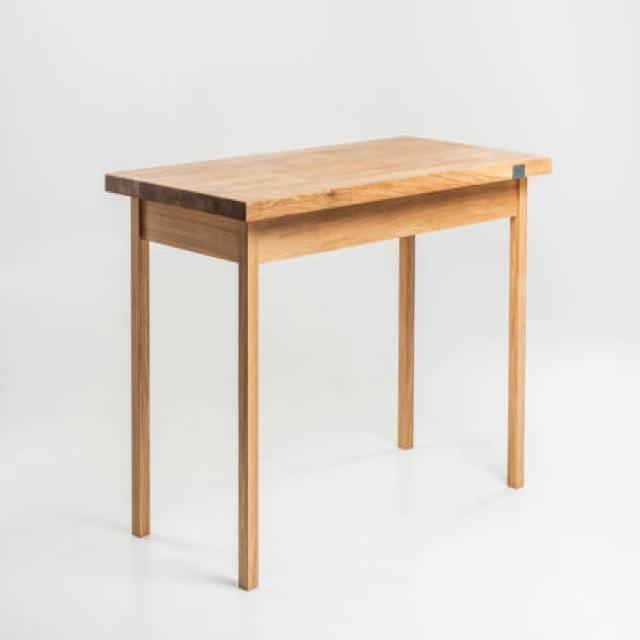table: (103, 133, 552, 590)
